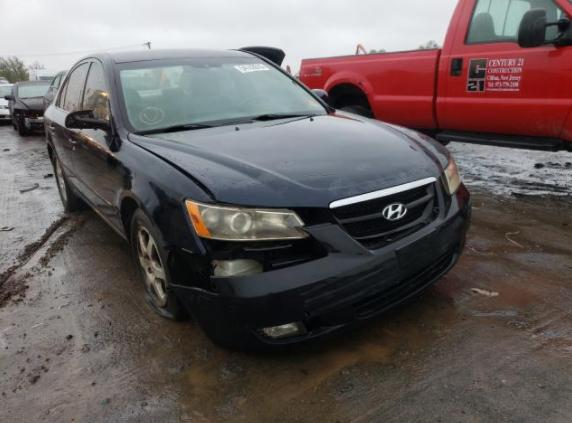Back-door: (48, 105, 82, 194), (53, 56, 92, 112)
Back-wheel: (52, 152, 85, 212)
Back-window: (56, 63, 88, 112)
Fender: (113, 126, 216, 255)
Front-bumper: (168, 175, 471, 350)
Front-door: (68, 56, 127, 239)
Front-wheel: (130, 208, 177, 320)
Front-window: (83, 63, 112, 122)
Grille: (328, 176, 440, 250)
Headlight: (184, 197, 310, 242), (441, 152, 462, 197)
Hood: (128, 109, 450, 208)
Mirror: (64, 110, 116, 137), (310, 88, 330, 105)
Quarter-panel: (43, 99, 63, 172)
Rocker-panel: (68, 181, 128, 242)
Roof: (101, 48, 258, 64)
Windshield: (113, 57, 329, 135)
